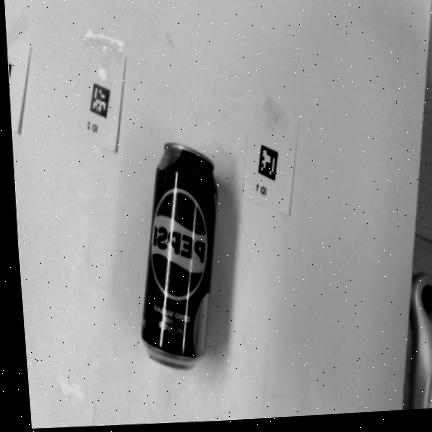can_pepsi_zero: (141, 143, 217, 367)
